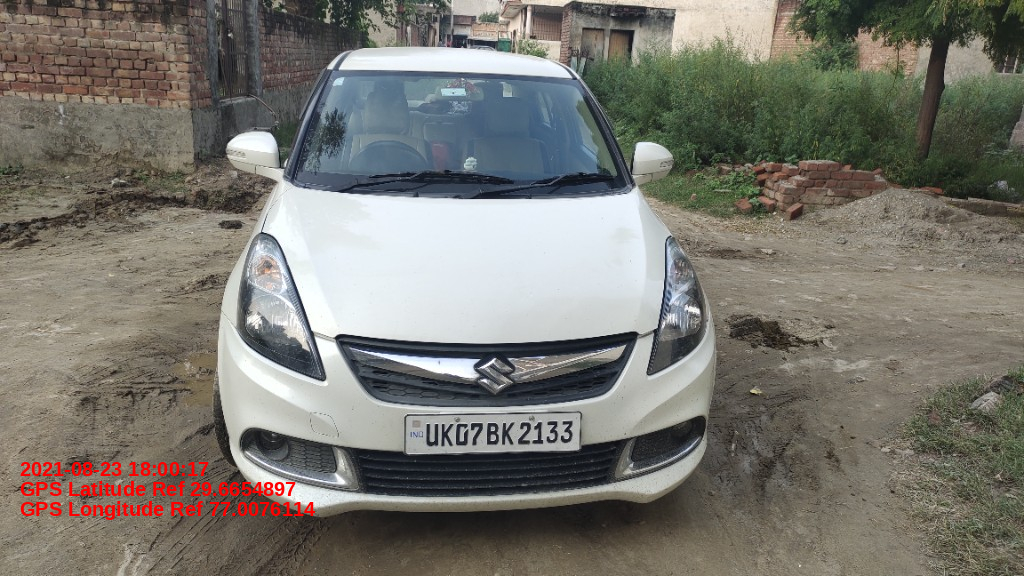Scratched: (612, 382, 630, 407), (370, 403, 392, 418), (348, 400, 359, 416), (620, 427, 630, 438)
